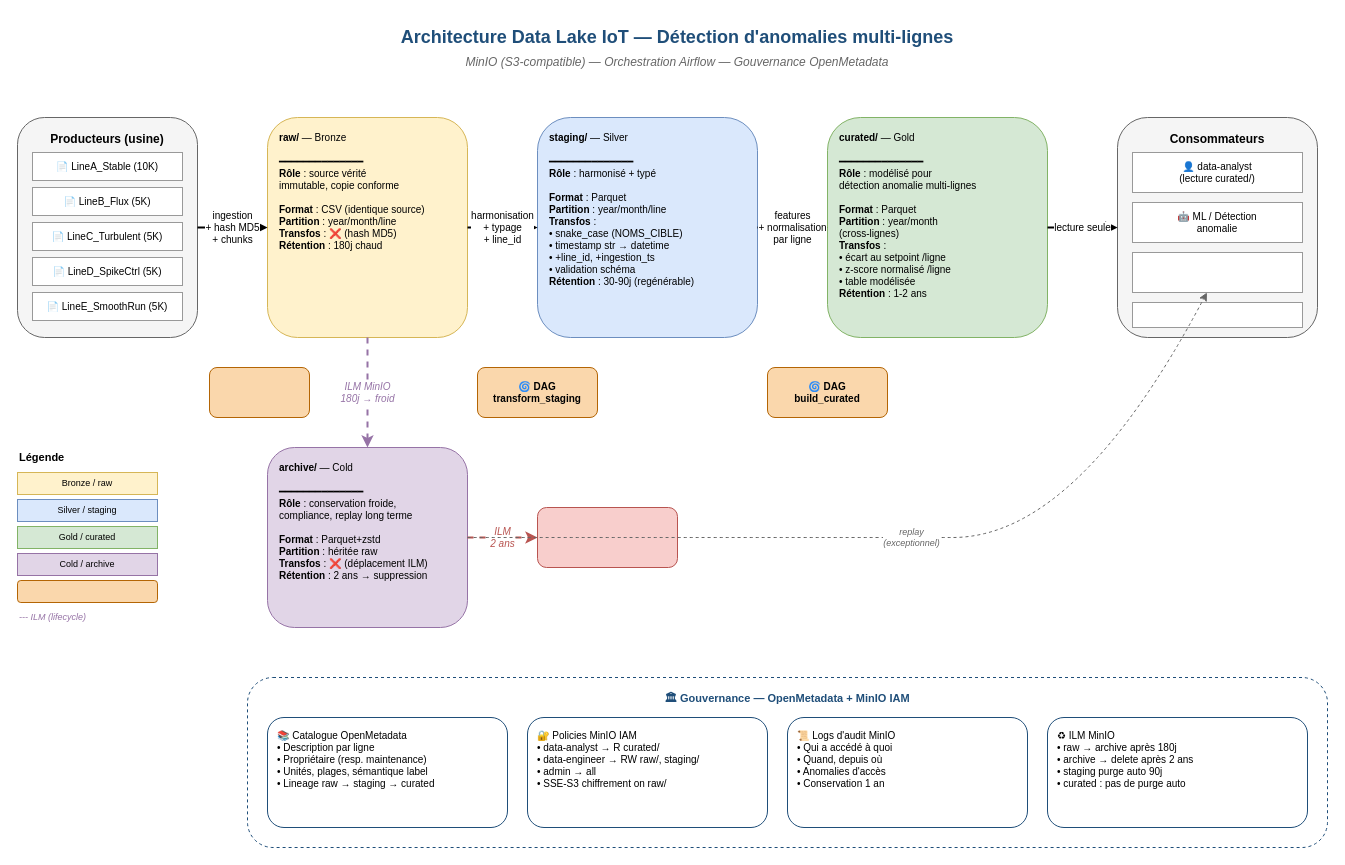
Image size: 1345x865. Some labels were removed from this diagram. Here are the shapes that lost their labels. From the top down, the centre of each, then its label:
At point (1217, 272): "🔍 Audit / compliance (accès raw + archive)".
At point (1217, 315): "🛠 data-engineer (raw + staging)".
At point (259, 392): "🌀 DAG ingest_raw".
At point (607, 537): "🗑 Suppression (politique 2 ans)".
At point (87, 591): "DAG Airflow".
